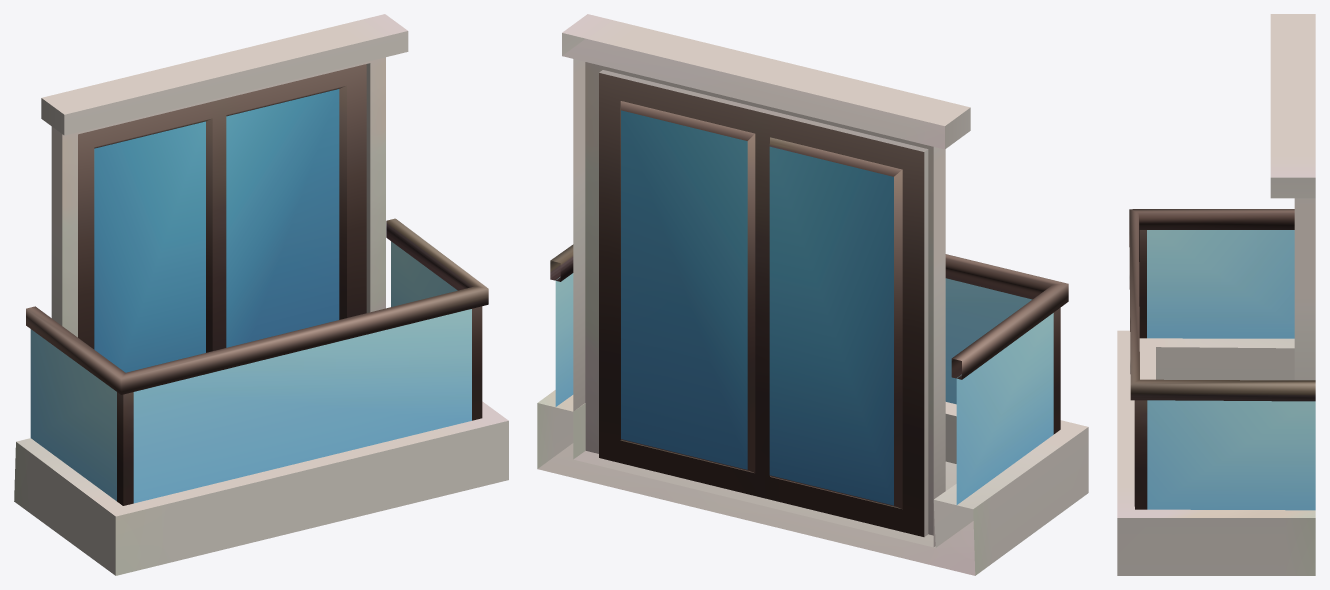
Rendered from Balcony04.fbx.
3 renders of one model, left to right at view 1: azimuth 30°, elevation 25°; view 2: azimuth 150°, elevation 25°; view 3: azimuth 270°, elevation 25°, orthographic. The views are drawn at different scales.
Visible parts, largest first — view 1: Balcony04; view 2: Balcony04; view 3: Balcony04.
Boxes of the visible parts, x1,y1,x2,y2 form: Balcony04: (14,14,508,575); Balcony04: (537,14,1088,575); Balcony04: (1117,14,1315,575).
Bounding box in the file's own units: 0.9273 × 0.8951 × 0.4155.
